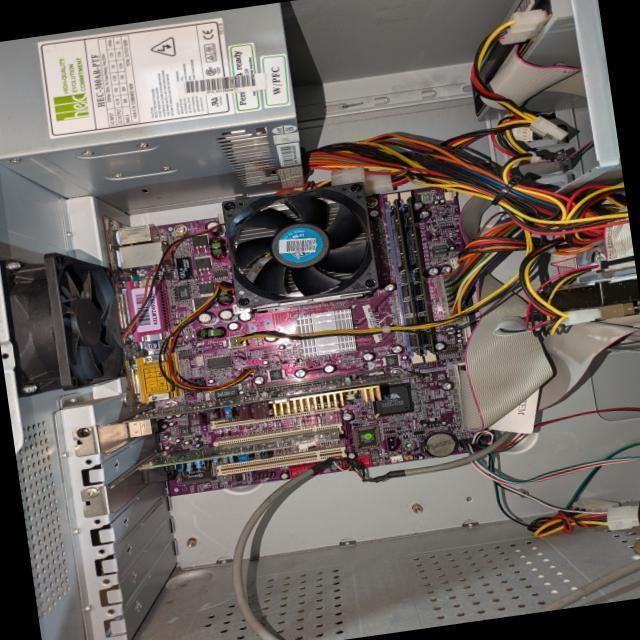CPU_Fan: (222, 180, 382, 314)
DISK: (537, 273, 640, 328)
Mainboard: (112, 182, 496, 498)
PSU: (0, 2, 309, 233)
RAM: (400, 196, 437, 356), (388, 198, 423, 357)
